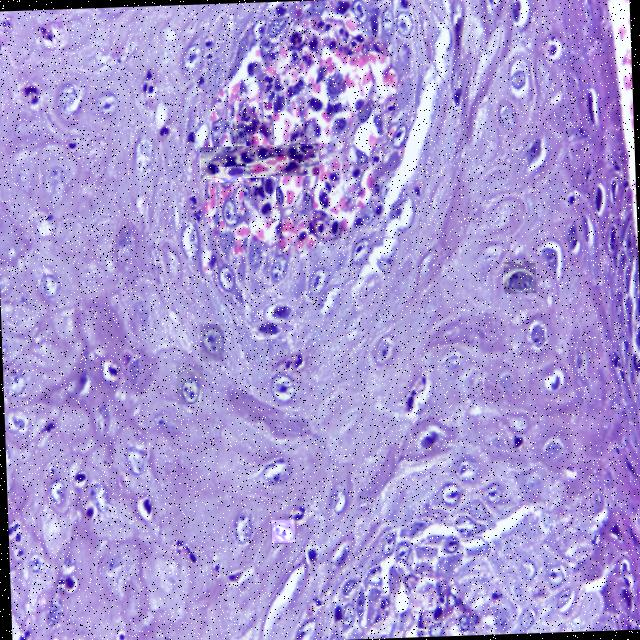Multiple Nucleol: (502, 260, 535, 294), (175, 364, 202, 404), (199, 325, 223, 361), (270, 519, 294, 543), (213, 166, 242, 181), (231, 121, 246, 146)
Nuclear Hyperchromatism: (200, 144, 317, 177), (251, 298, 294, 338)
